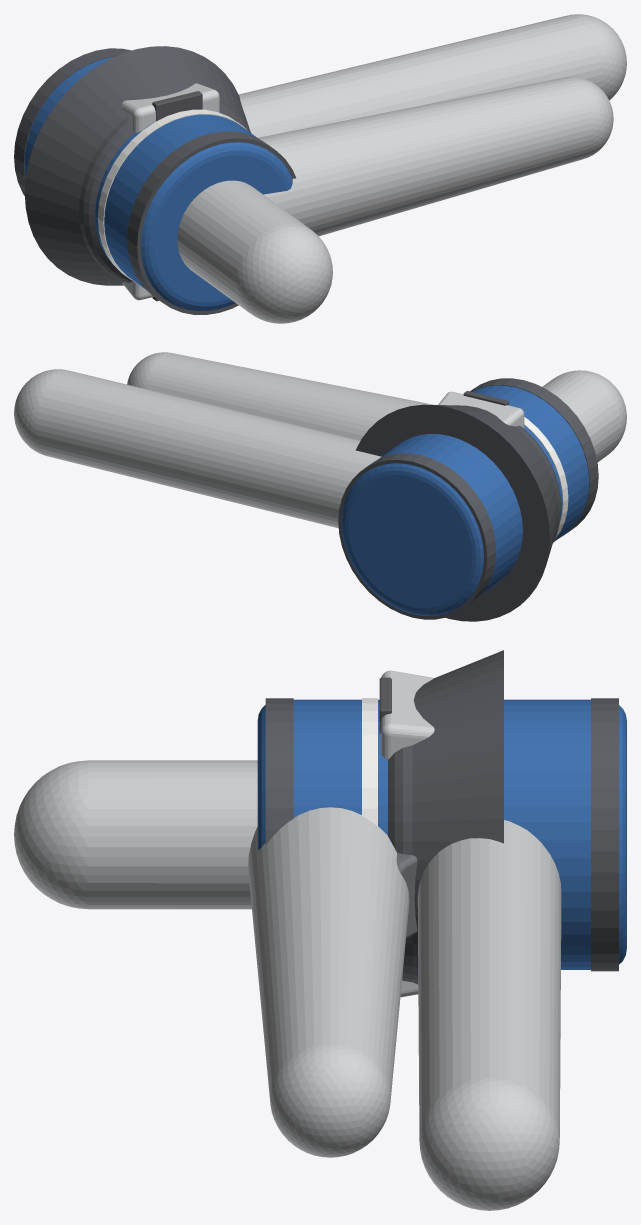
Rendered from arm.glb.
The picture shows the model from 3 angles, top to bottom: view 1: azimuth 30°, elevation 25°; view 2: azimuth 150°, elevation 25°; view 3: azimuth 270°, elevation 25°; orthographic projection. The views are drawn at different scales.
Parts seen in each view (by area): view 1: b3, b4, b1, b2, b8; view 2: b3, b4, b1, b2, b8; view 3: b3, b4, b2, b1, b8.
Part boxes in pixels (<box>): b3: <box>14,48,613,314</box>; b4: <box>239,14,626,137</box>; b1: <box>24,46,250,285</box>; b2: <box>177,180,332,323</box>; b8: <box>122,83,219,301</box>; b3: <box>127,352,598,619</box>; b4: <box>14,369,381,528</box>; b1: <box>356,404,560,621</box>; b2: <box>542,370,626,462</box>; b8: <box>438,391,524,447</box>; b3: <box>248,698,626,1157</box>; b4: <box>417,820,561,1210</box>; b2: <box>14,760,257,909</box>; b1: <box>388,650,503,984</box>; b8: <box>379,670,434,997</box>.
Size of the model in its own units: 0.4732 by 0.1788 by 0.2963.
